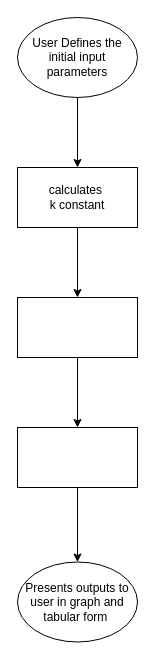
Some shapes in this 155 by 660 pixel diagram are drawn without their labels. Each missing label, with the centre of its shape:
calculate reaction rate: (x=77, y=327)
runs optimization loop: (x=77, y=457)
